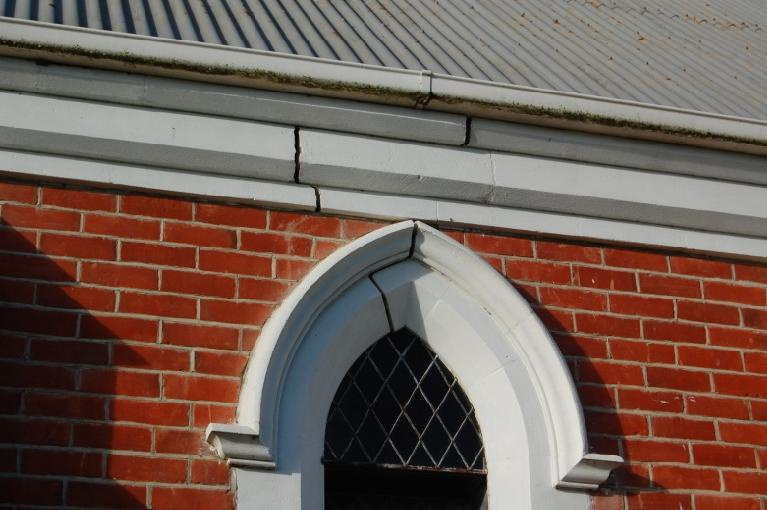crack: (284, 119, 315, 184), (451, 107, 484, 154)
